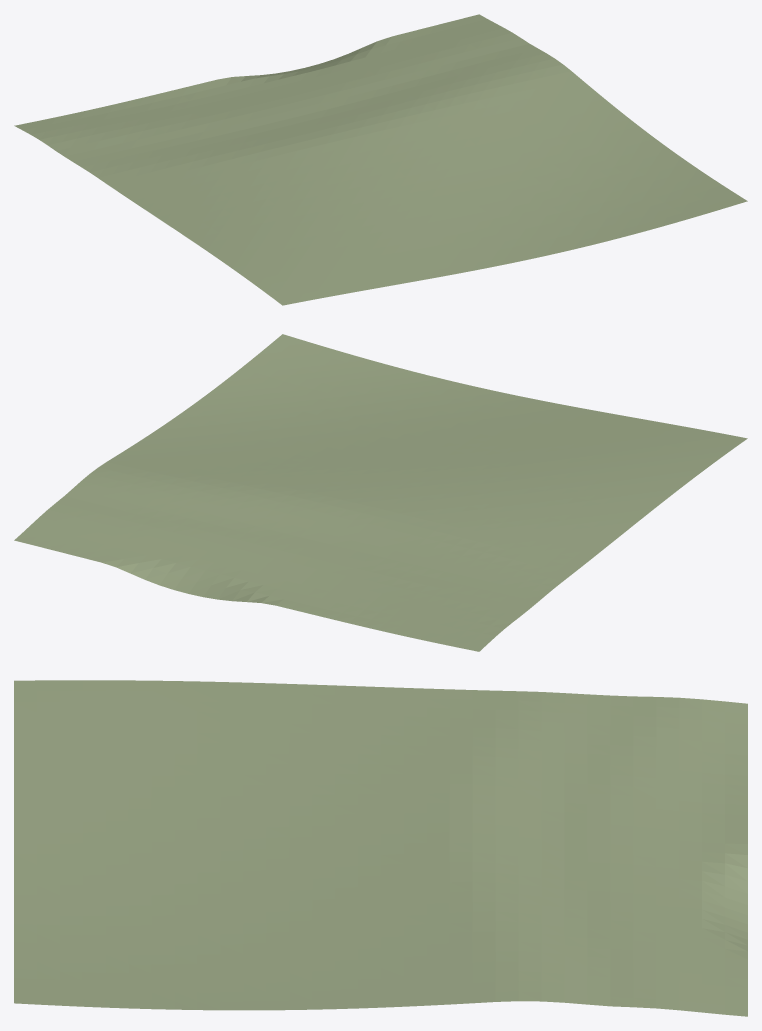
File: coast-0-1.glb
3 views of the same model, one above another, from view 1: azimuth 30°, elevation 25°; view 2: azimuth 150°, elevation 25°; view 3: azimuth 270°, elevation 25° (orthographic). The views are drawn at different scales.
Parts seen in each view (by area): view 1: coast-0-1; view 2: coast-0-1; view 3: coast-0-1.
Part boxes in pixels (<box>): coast-0-1: <box>14,14,747,305</box>; coast-0-1: <box>14,334,747,651</box>; coast-0-1: <box>14,680,747,1016</box>.
Size of the model in its own units: 128 by 7.93 by 128.
